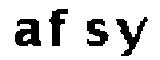a: (11, 17, 42, 49)
f: (46, 7, 72, 47)
s: (83, 15, 110, 48)
y: (115, 16, 148, 59)
